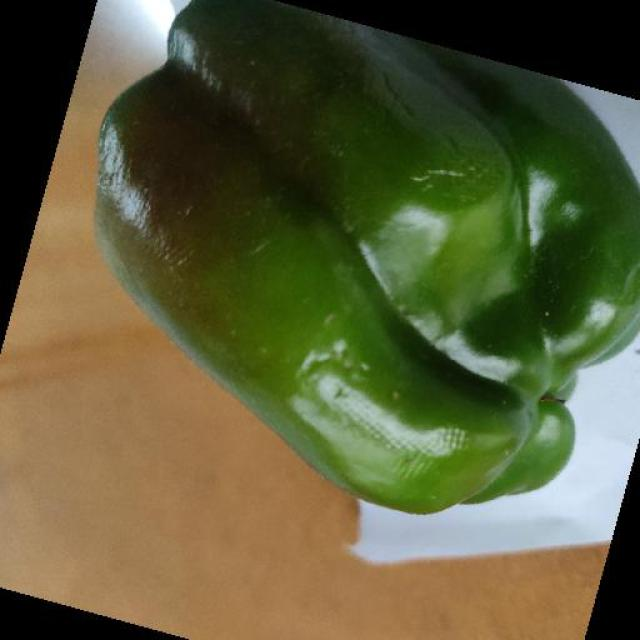Stale_Capsicum: (113, 31, 540, 439)
